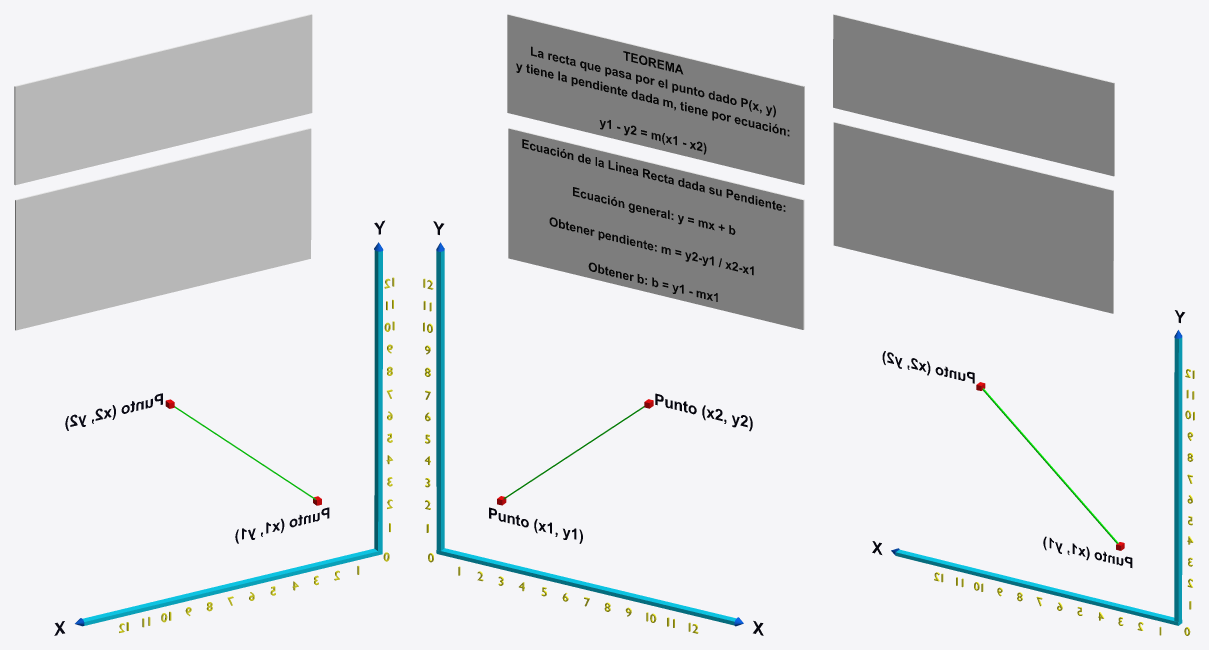
Rendered from E-Recta.fbx.
The picture shows the model from 3 angles, left to right: view 1: azimuth 30°, elevation 25°; view 2: azimuth 150°, elevation 25°; view 3: azimuth 330°, elevation 25°; orthographic projection. The views are drawn at different scales.
Parts seen in each view (by area): view 1: Cubo.002, Cubo.003, Cubo.001, Cubo, Text.026; view 2: Cubo.002, Cubo.003, Text.025, Text.027, Cubo.001, Cubo, Text.026; view 3: Cubo.002, Cubo.003, Cubo.001, Cubo, Text.026, Cube.002.
Boxes of the visible parts, x1,y1,x2,y2 form: Cubo.002: (15,128,311,330); Cubo.003: (14,14,312,185); Cubo.001: (374,250,382,551); Cubo: (82,548,382,625); Text.026: (65,393,162,430); Cubo.002: (508,128,804,329); Cubo.003: (507,14,804,184); Text.025: (522,139,785,301); Text.027: (516,46,789,154); Cubo.001: (436,248,444,550); Cubo: (436,548,736,625); Text.026: (655,393,752,431); Cubo.002: (833,122,1113,313); Cubo.003: (833,14,1114,176); Cubo.001: (1174,337,1182,623); Cubo: (895,549,1182,625); Text.026: (882,351,974,383); Cube.002: (982,388,1118,543).
Size of the model in its own units: 359 by 516 by 8.65.
